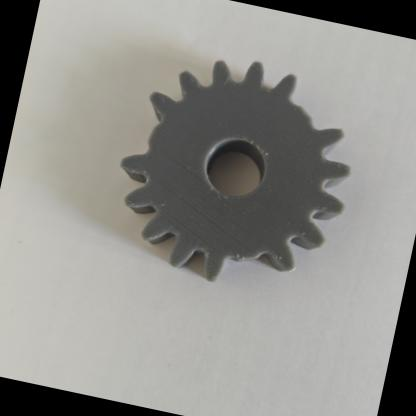defect: (252, 58, 371, 168), (182, 214, 302, 322), (91, 76, 190, 190)
gear: (55, 12, 388, 346)
